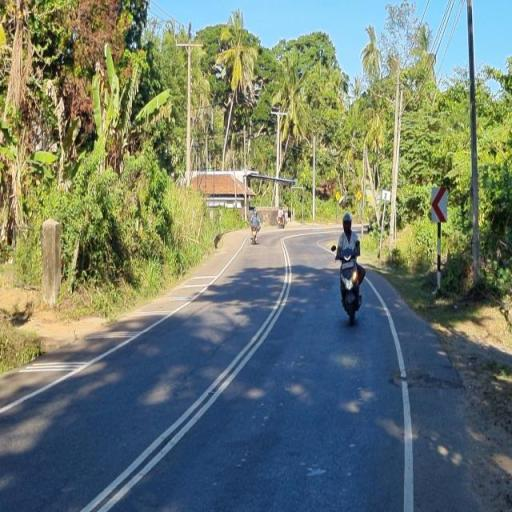double_white_line: (78, 236, 299, 511)
